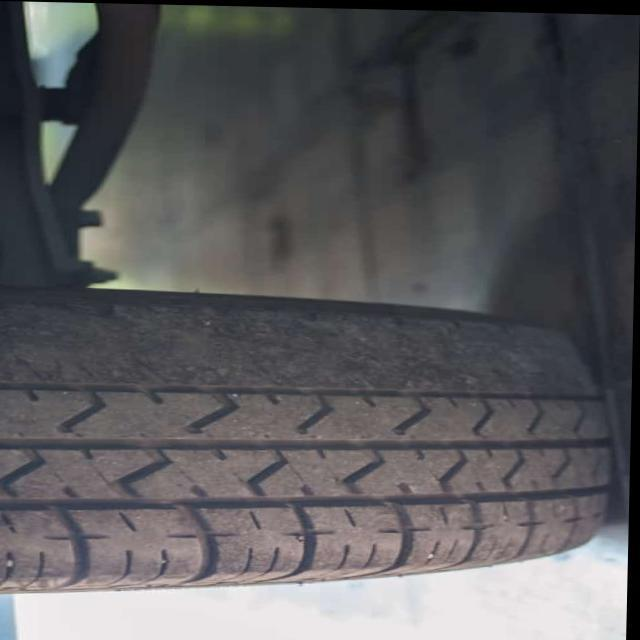Flat spots: (4, 286, 597, 378)
Non-defective: (2, 389, 635, 574)
